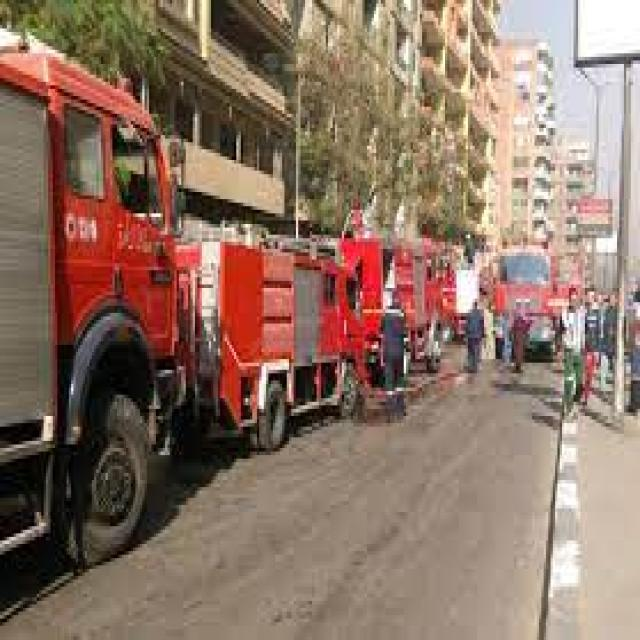pompier: (2, 36, 192, 577), (208, 230, 368, 457)
